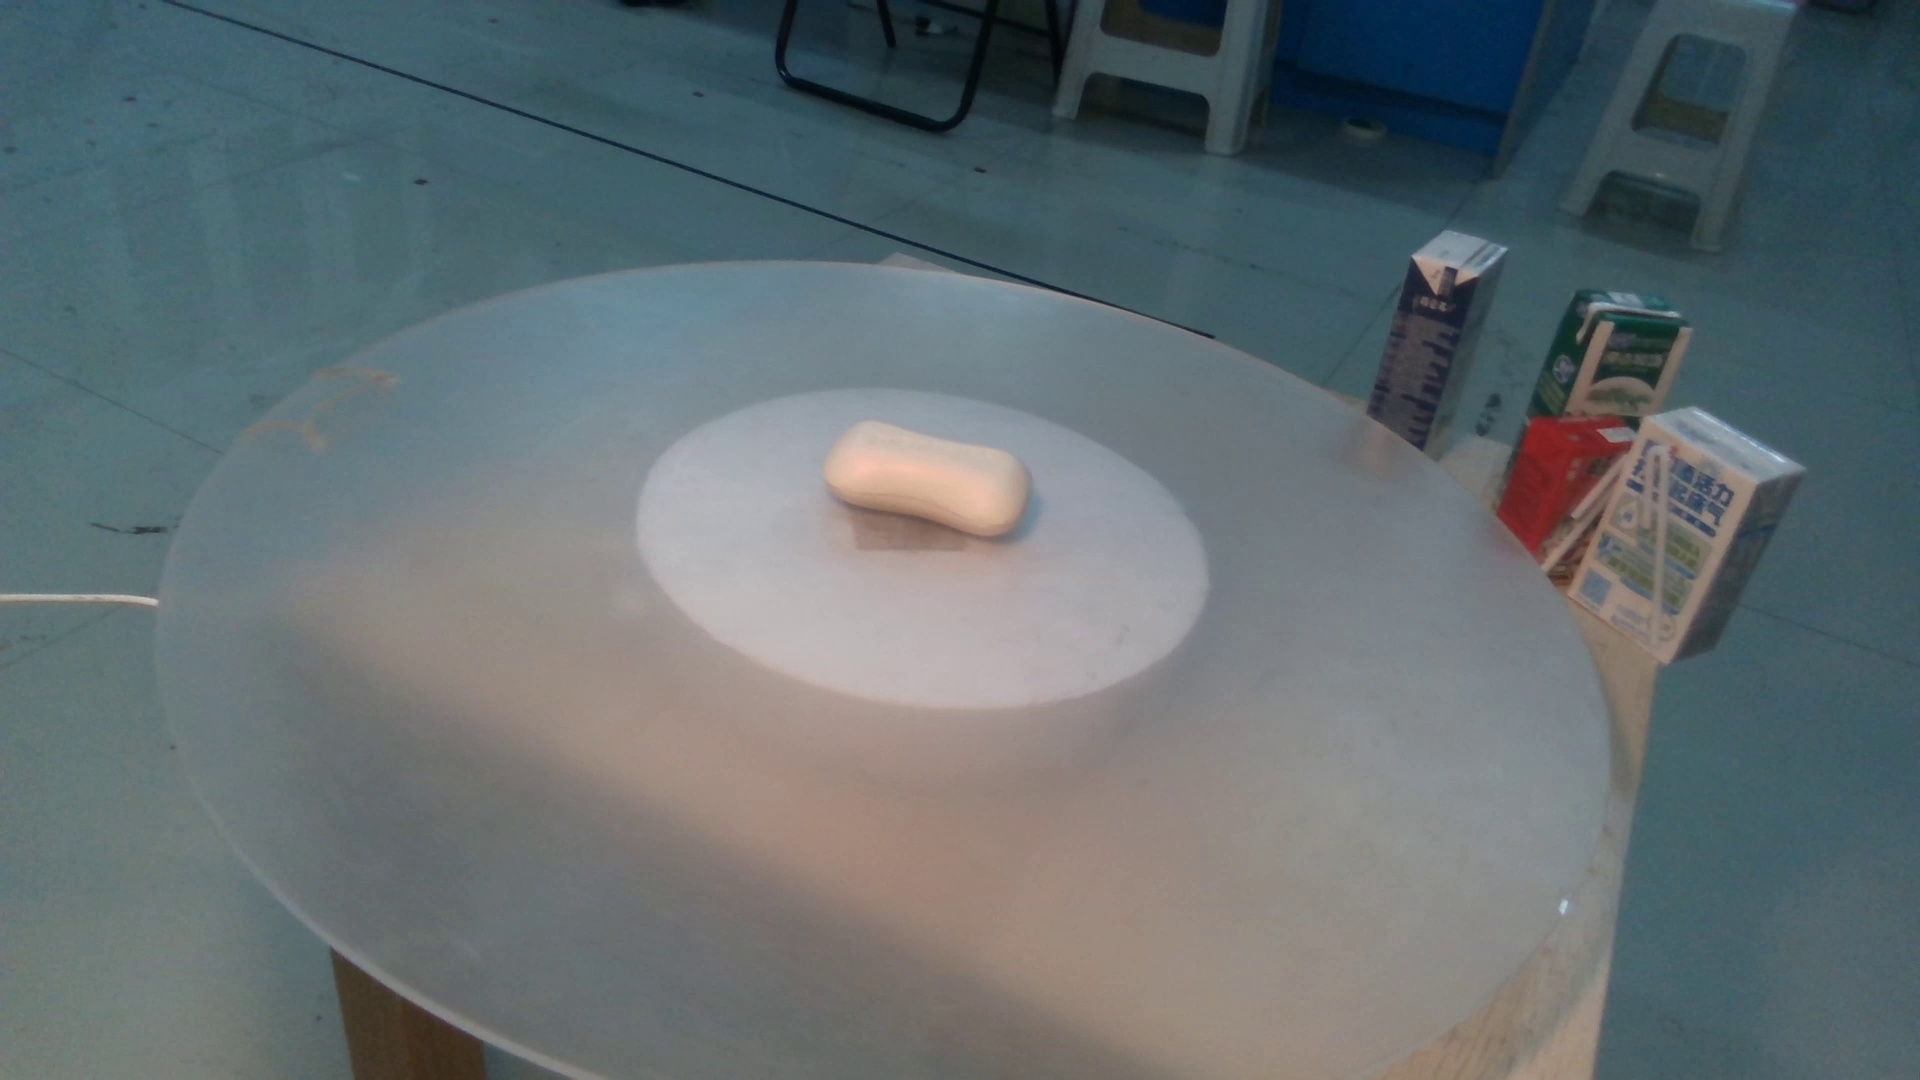CA003_1: (810, 393, 1083, 599)
